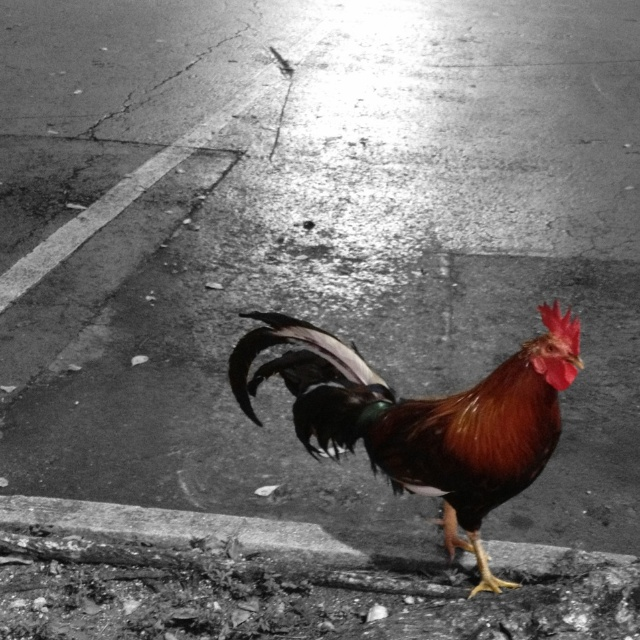Chicken: (271, 289, 606, 602)
